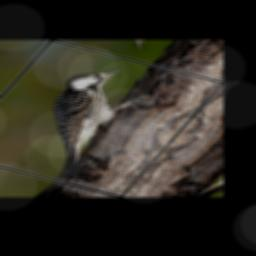Woodpecker: (0, 61, 172, 182)
